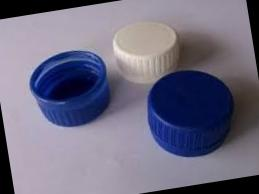Plastik: (145, 70, 233, 158), (28, 51, 109, 128), (111, 22, 180, 85)
